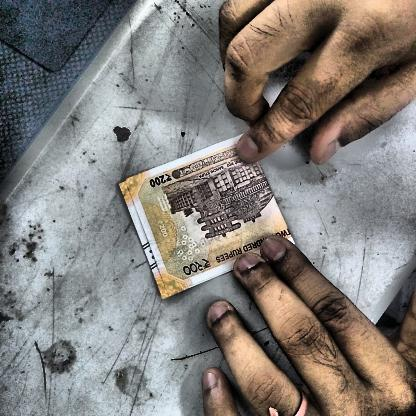Rs200: (145, 169, 176, 193)
